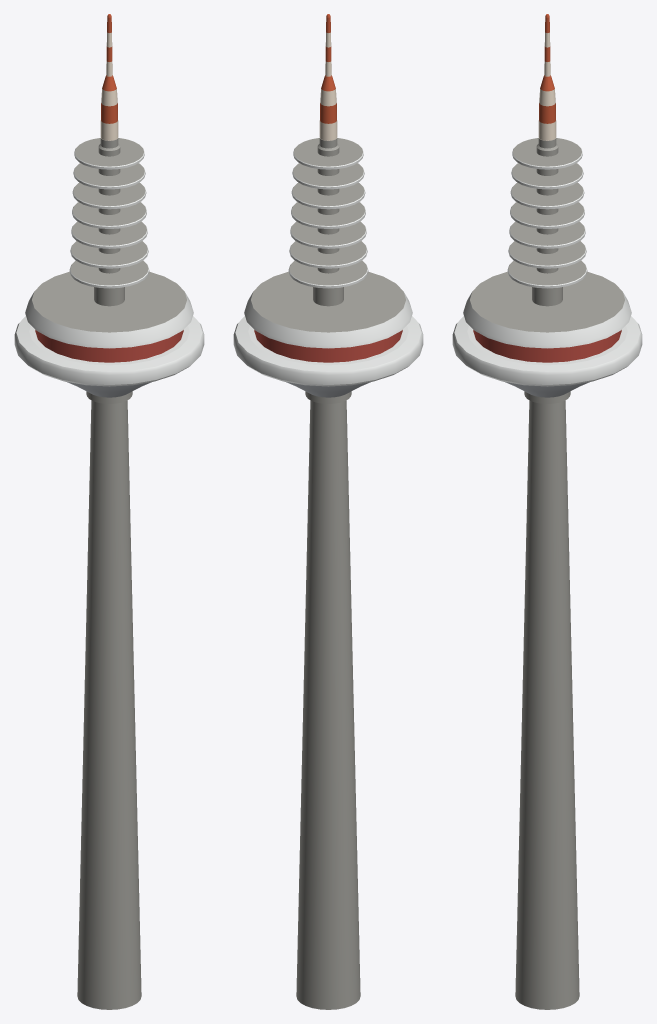
The model's file is frankfurt-europaturm.glb.
3 renders of one model, left to right at view 1: azimuth 30°, elevation 25°; view 2: azimuth 150°, elevation 25°; view 3: azimuth 270°, elevation 25°, orthographic.
Parts seen in each view (by area): view 1: Europaturm; view 2: Europaturm; view 3: Europaturm.
Boxes of the visible parts, bbox=[...] form: Europaturm: bbox=[14, 14, 204, 1009]; Europaturm: bbox=[233, 14, 423, 1009]; Europaturm: bbox=[452, 14, 642, 1009].
Bounding box in the file's own units: 59.2 × 338 × 59.2.
